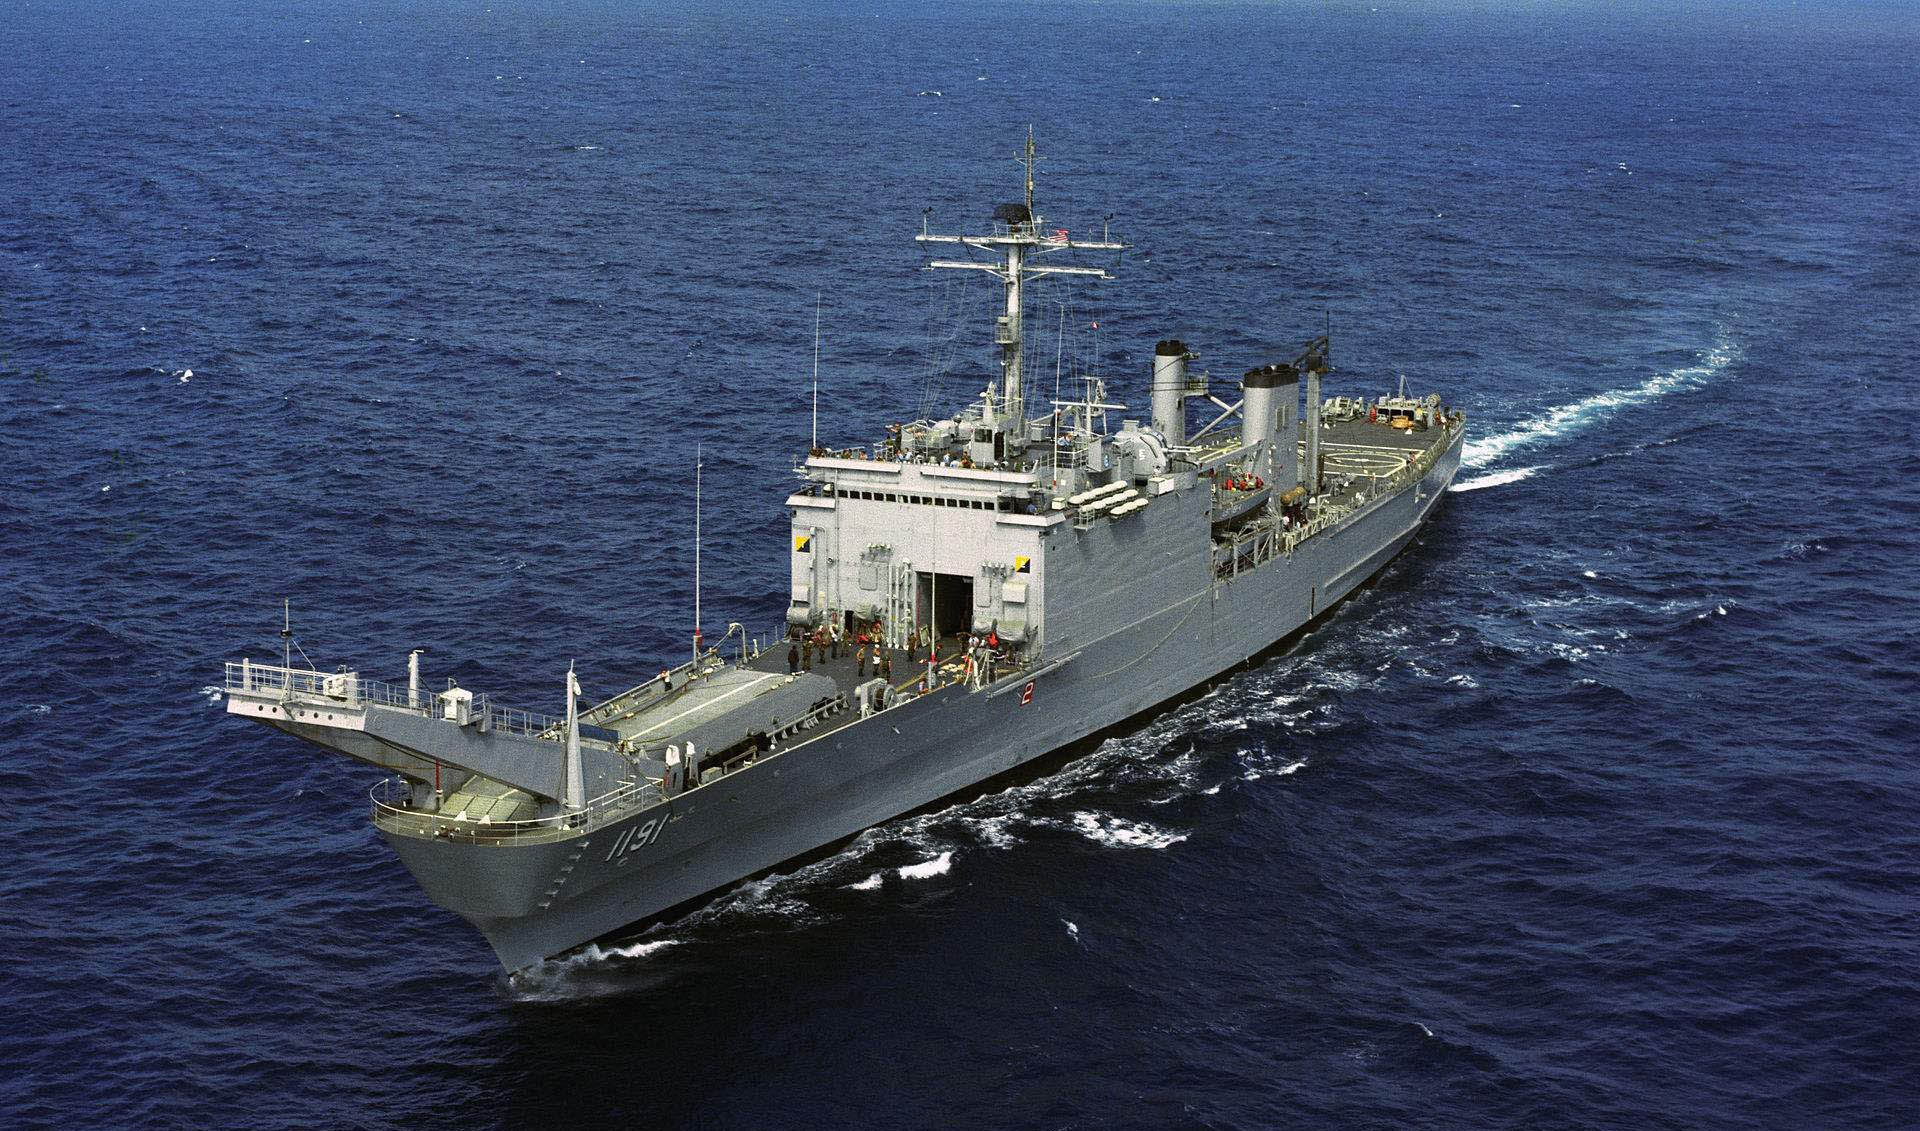warship: (219, 89, 1465, 921)
